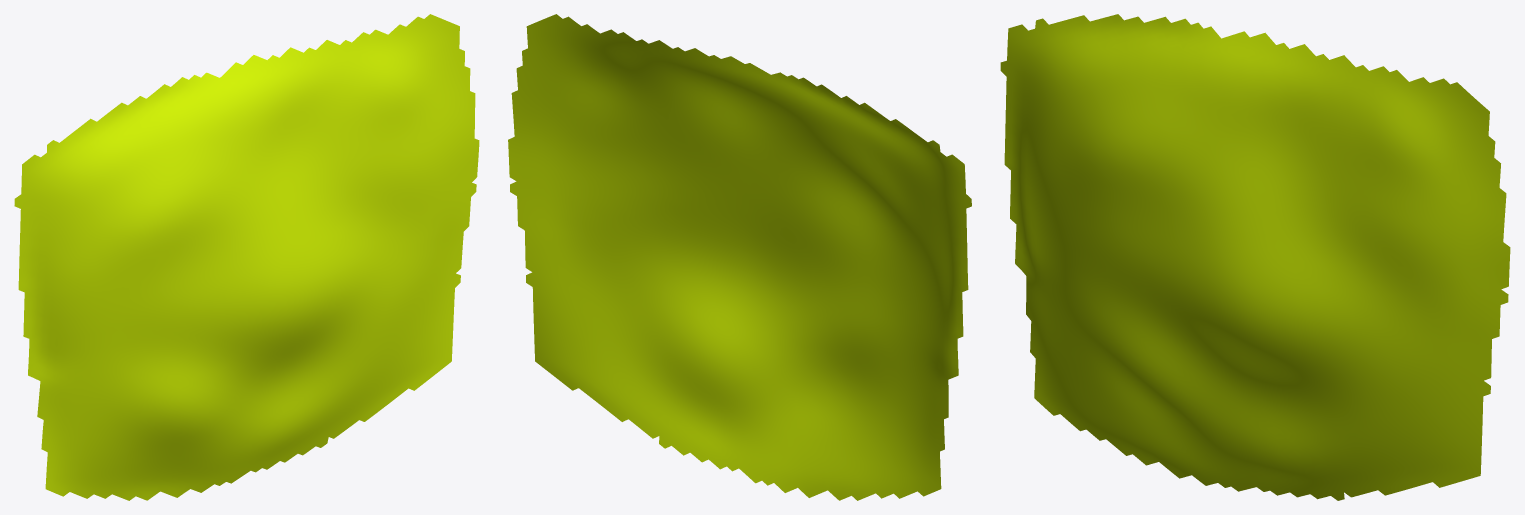
The model's file is SM_GPUI_seederground_60.fbx.
3 views of the same model, side by side, from view 1: azimuth 30°, elevation 25°; view 2: azimuth 150°, elevation 25°; view 3: azimuth 330°, elevation 25° (orthographic). The views are drawn at different scales.
Visible parts, largest first — view 1: SM_GPUI_seederground_60; view 2: SM_GPUI_seederground_60; view 3: SM_GPUI_seederground_60.
Part boxes in pixels (left/top/right/bottom): SM_GPUI_seederground_60: left=14, top=14, right=479, bottom=500; SM_GPUI_seederground_60: left=508, top=14, right=971, bottom=500; SM_GPUI_seederground_60: left=1000, top=14, right=1510, bottom=500.
Bounding box in the file's own units: 4588 × 4009 × 433.
1 material, 1 textured.
